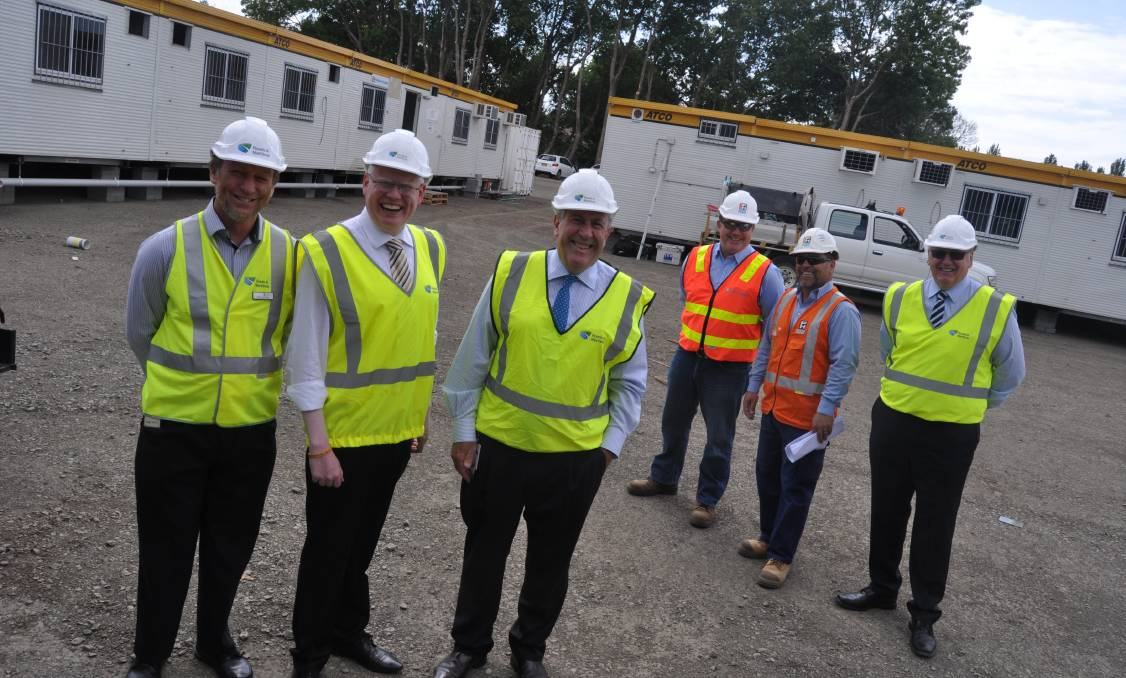Helmet: (201, 111, 291, 236), (357, 121, 442, 241), (545, 162, 625, 276), (916, 207, 991, 297), (786, 222, 842, 293), (714, 181, 758, 256)
Reflective vest: (467, 243, 659, 455), (135, 211, 308, 433), (291, 221, 451, 458), (876, 276, 1020, 424), (757, 279, 861, 440), (676, 240, 775, 364)
